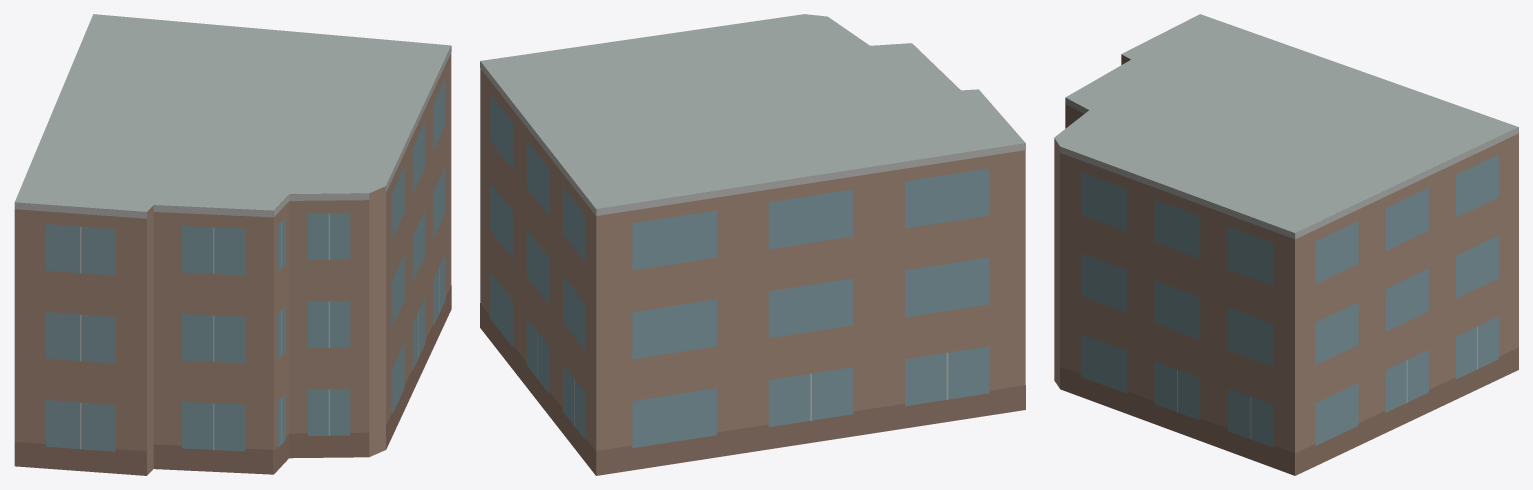
Rendered from survey-upis-32526219.glb.
3 views of the same model, side by side, from view 1: azimuth 30°, elevation 25°; view 2: azimuth 150°, elevation 25°; view 3: azimuth 270°, elevation 25° (orthographic). The views are drawn at different scales.
Visible parts, largest first — view 1: survey-upis-32526219.tmp; view 2: survey-upis-32526219.tmp; view 3: survey-upis-32526219.tmp.
Boxes of the visible parts, x1=… form: survey-upis-32526219.tmp: x1=14, y1=14, x2=451, y2=475; survey-upis-32526219.tmp: x1=480, y1=14, x2=1025, y2=475; survey-upis-32526219.tmp: x1=1054, y1=14, x2=1518, y2=475.
Size of the model in its own units: 18.21 by 9.4 by 16.32.
